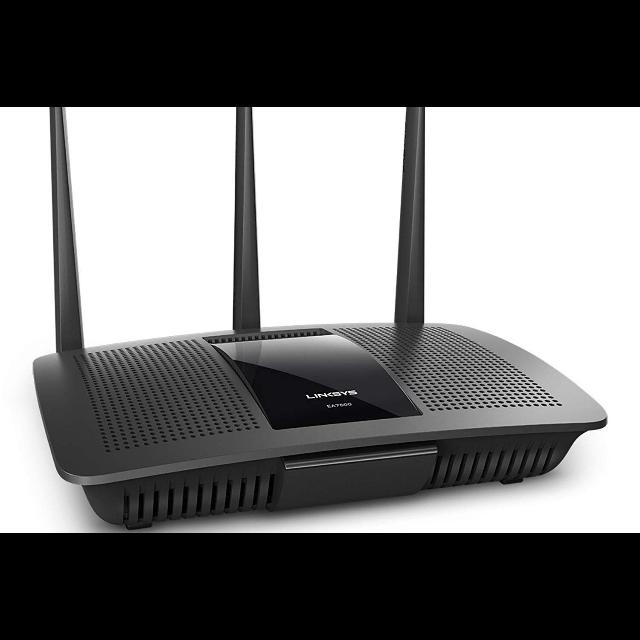Router: (33, 107, 609, 532)
